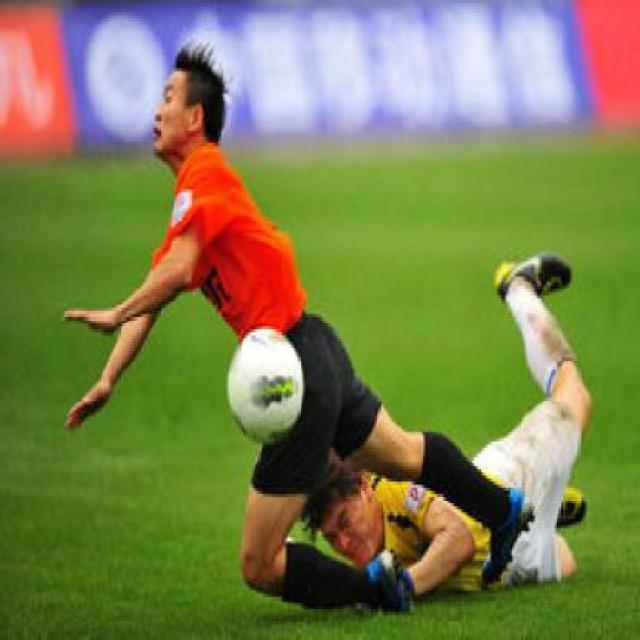fall: (286, 220, 612, 612)
